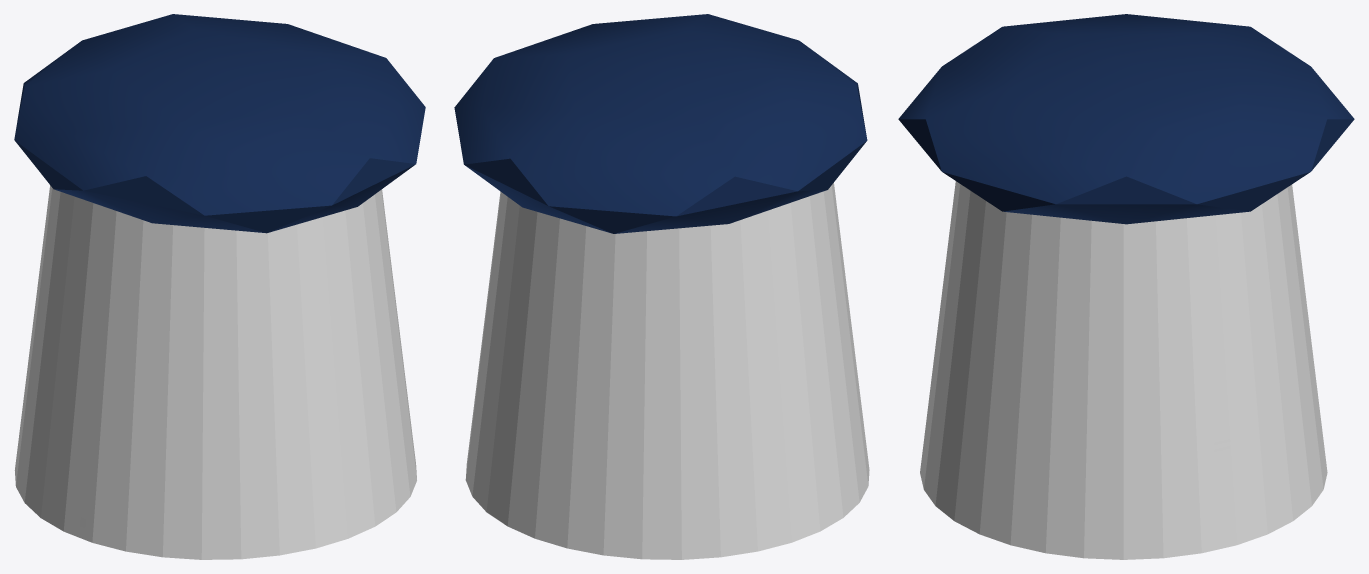
The model's file is Banco2S5.obj.
3 renders of one model, left to right at view 1: azimuth 30°, elevation 25°; view 2: azimuth 150°, elevation 25°; view 3: azimuth 270°, elevation 25°, orthographic.
Parts seen in each view (by area): view 1: Banco2S5; view 2: Banco2S5; view 3: Banco2S5.
Part boxes in pixels (x1,y1,x2,y2): Banco2S5: (14, 14, 425, 559); Banco2S5: (454, 14, 869, 559); Banco2S5: (898, 14, 1354, 559).
Bounding box in the file's own units: 2.18 × 2.4 × 2.4.
Materials: 2 (2 with a texture image).
